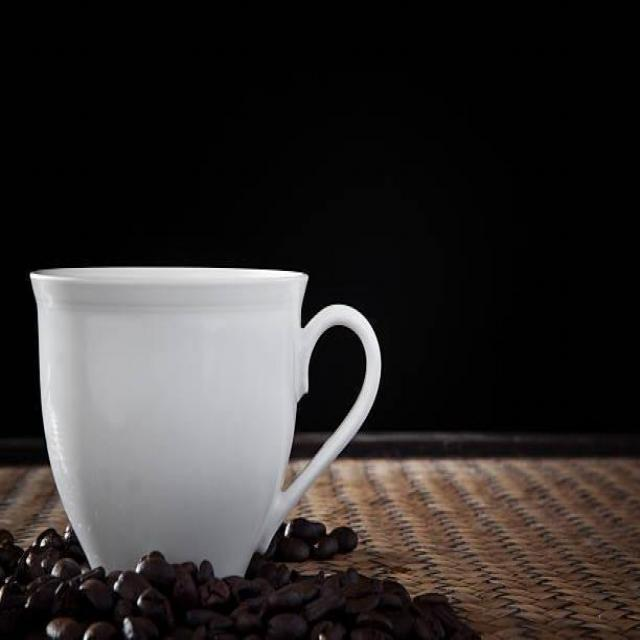cup-handle: (28, 261, 382, 588)
